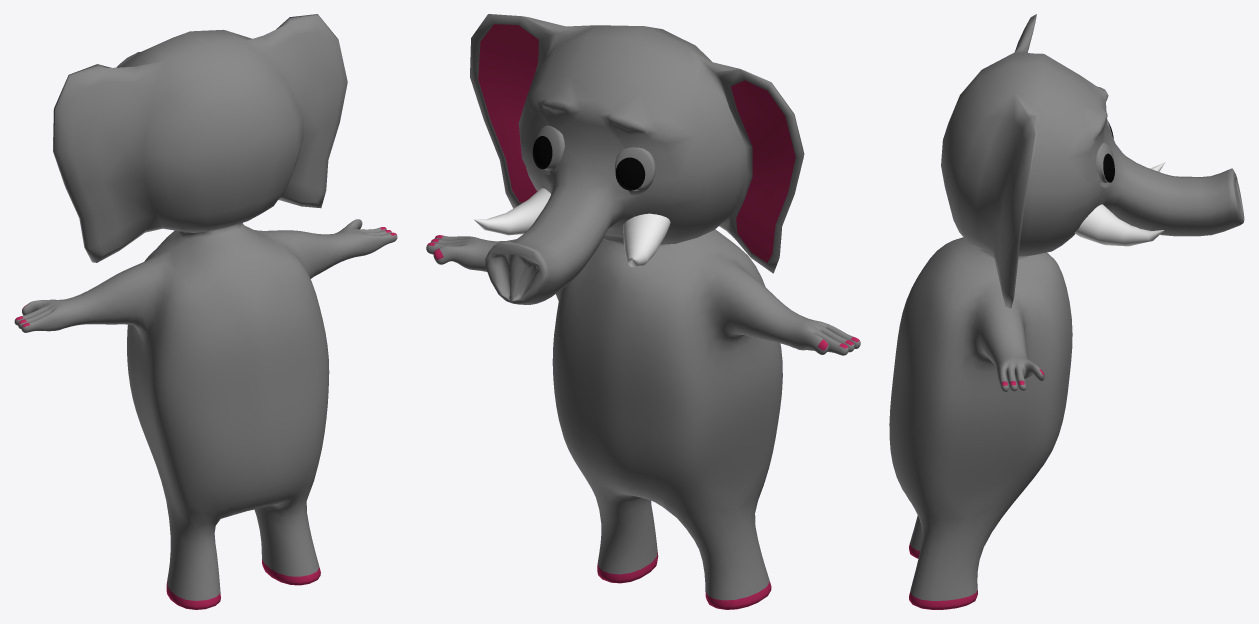
Rendered from Ennemie3.FBX.
3 renders of one model, left to right at view 1: azimuth 30°, elevation 25°; view 2: azimuth 150°, elevation 25°; view 3: azimuth 270°, elevation 25°, orthographic. The views are drawn at different scales.
Parts seen in each view (by area): view 1: Boîte007; view 2: Boîte007, Cône001, Sphère001, Sphère002; view 3: Boîte007, Cône001, Sphère002.
Boxes of the visible parts, box(x1,y1,x2,y2) form: Boîte007: box(14, 14, 397, 609); Boîte007: box(426, 14, 860, 609); Cône001: box(474, 188, 670, 267); Sphère001: box(615, 147, 655, 195); Sphère002: box(532, 125, 564, 174); Boîte007: box(889, 14, 1244, 609); Cône001: box(1075, 162, 1165, 246); Sphère002: box(1096, 143, 1114, 187).
Bounding box in the file's own units: 68.08 × 90.01 × 56.3.
